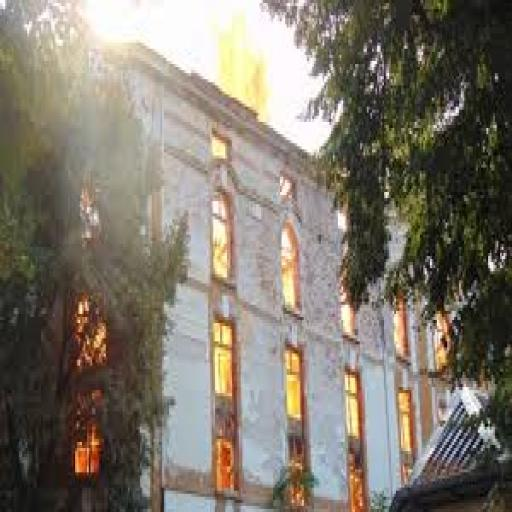fire: (72, 308, 102, 460), (212, 326, 232, 488), (212, 36, 268, 92), (343, 365, 360, 512), (283, 354, 304, 457)
